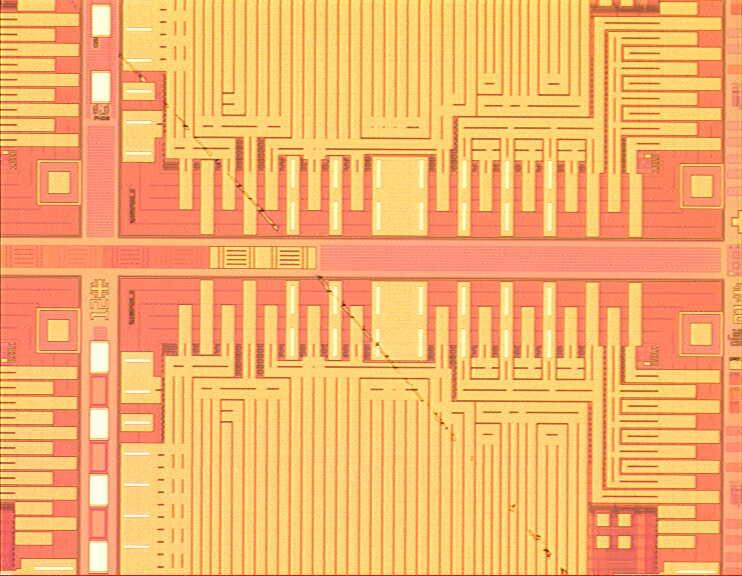SCRATCH: (59, 1, 583, 576)
